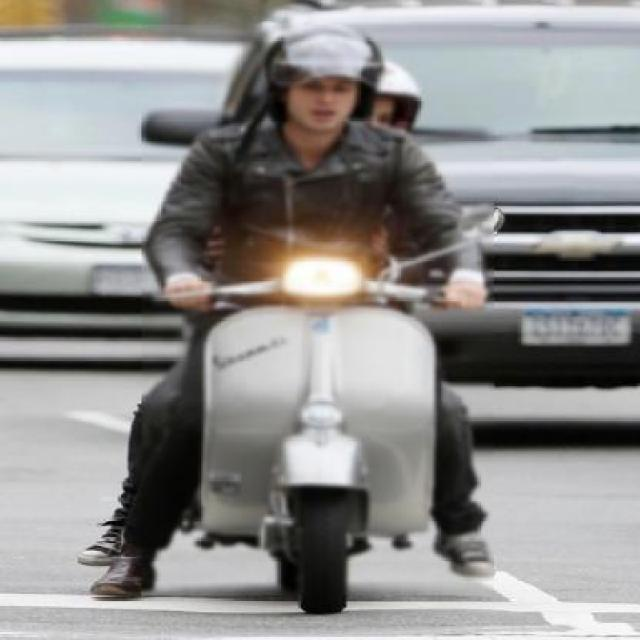helmet: (263, 23, 383, 138), (369, 52, 433, 136)
motorcycle: (70, 9, 514, 612)
